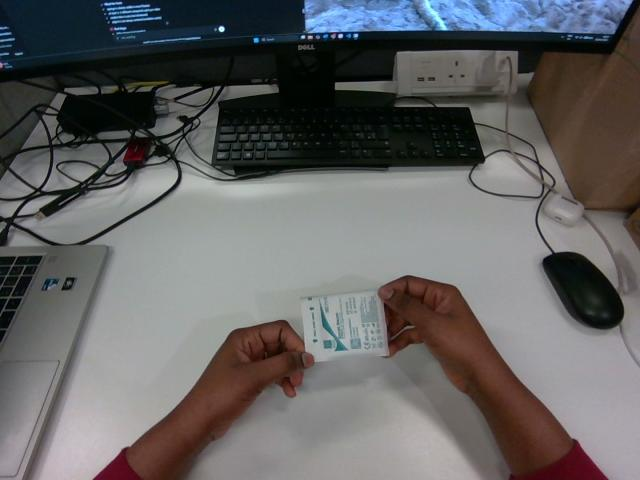gauze: (301, 291, 388, 361)
